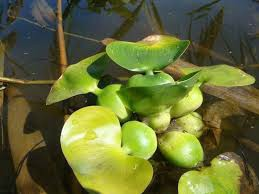water_hyacinth: (48, 33, 256, 194)
